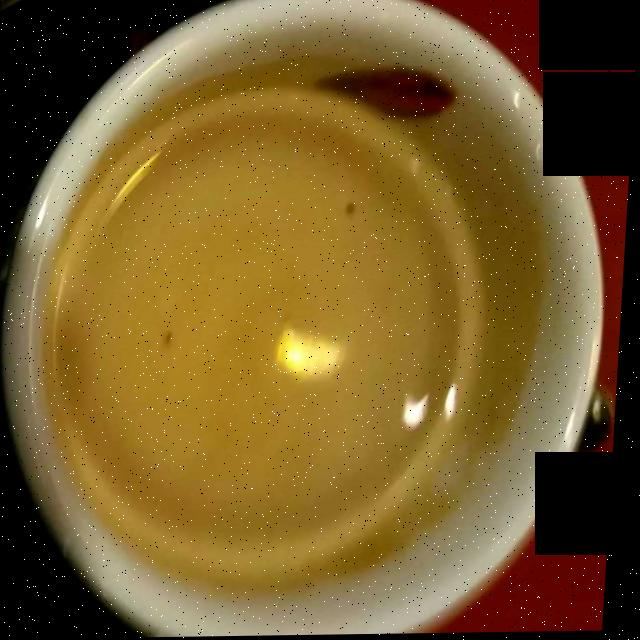ristretto-with-caffeine: (59, 71, 532, 597)
